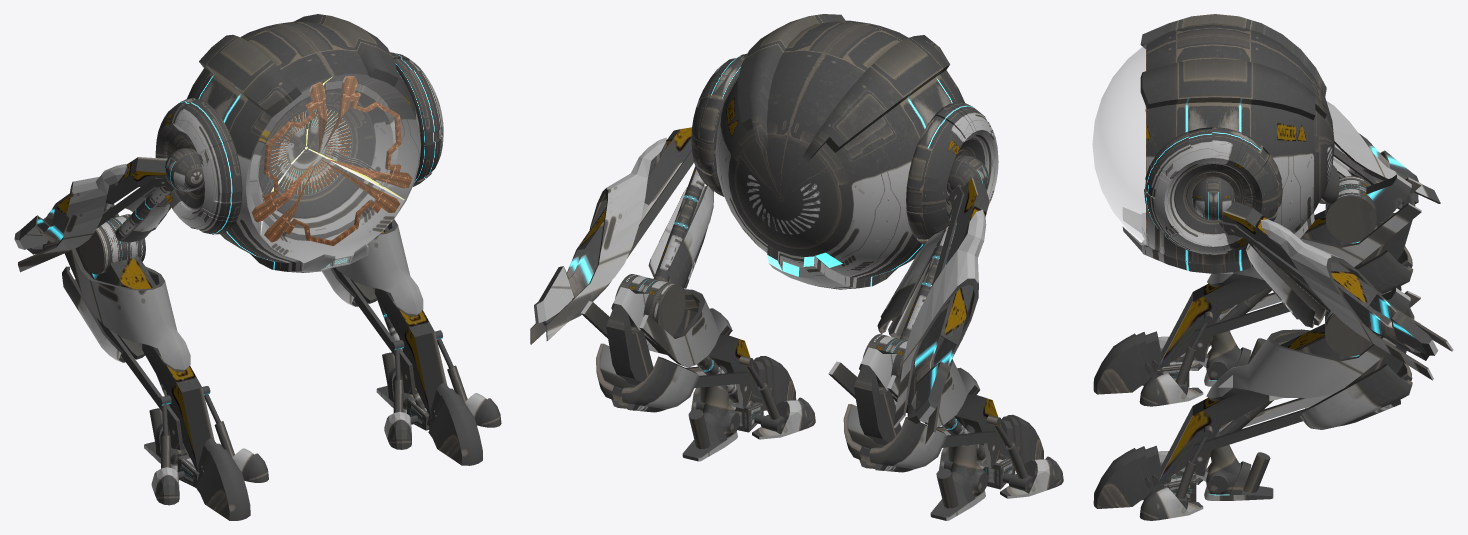
3 views of the same model, side by side, from view 1: azimuth 30°, elevation 25°; view 2: azimuth 150°, elevation 25°; view 3: azimuth 270°, elevation 25° (orthographic). The views are drawn at different scales.
Visible parts, largest first — view 1: lentille, armure_corps_0 (×2), object 36, corps, Griffe_Material #29_0, Sphere005, Object007_corps_0, Object003_corps_0, Sphere006, Gddp002, Gddp003, rotule (+10 smaller); view 2: corps, armure_corps_0 (×2), Sphere005, Object008_corps_0, Talon (×2), Object003_corps_0, Object007_corps_0, Object005_corps_0, Sphere006, rotule (×2), Ddp externe D_corps_0 (×2), armure002_corps_0 (+9 smaller); view 3: armure_corps_0 (×2), corps, lentille, Sphere006, Talon (×2), Object008_corps_0, Object005_corps_0, Object002_corps_0, rotule (×2), Ddp externe G_corps_0 (×2), Gddp002, Gddp003 (+13 smaller).
Part boxes in pixels (x1,y1,x2,y2): lentille: (246,74,420,260); armure_corps_0 (×2): (47,204,467,479); object 36: (246,73,420,261); corps: (187,14,419,272); Griffe_Material #29_0: (252,76,412,245); Sphere005: (156,98,242,234); Object007_corps_0: (18,164,128,272); Object003_corps_0: (14,157,167,249); Sphere006: (390,52,443,186); Gddp002: (196,449,250,520); Gddp003: (428,394,482,465); rotule: (79,214,145,274); corps: (715,14,964,289); armure_corps_0 (×2): (580,287,1032,490); Sphere005: (906,102,997,247); Object008_corps_0: (530,137,667,344); Talon (×2): (682,365,988,520); Object003_corps_0: (914,177,989,422); Object007_corps_0: (893,209,986,445); Object005_corps_0: (534,127,691,323); Sphere006: (691,53,746,196); rotule (×2): (615,274,907,387); Ddp externe D_corps_0 (×2): (752,397,1063,498); armure002_corps_0: (648,185,713,289); armure_corps_0 (×2): (1156,174,1421,509); corps: (1122,14,1334,273); lentille: (1092,44,1145,243); Sphere006: (1144,127,1282,255); Talon (×2): (1180,317,1273,500); Object008_corps_0: (1261,219,1453,380); Object005_corps_0: (1220,201,1438,355); Object002_corps_0: (1164,158,1262,246); rotule (×2): (1325,176,1376,356); Ddp externe G_corps_0 (×2): (1139,373,1203,520); Gddp002: (1093,333,1151,394); Gddp003: (1093,448,1151,508).
Bounding box in the file's own units: 1.77 × 1.89 × 1.49.
Materials: 5 (2 with a texture image).
